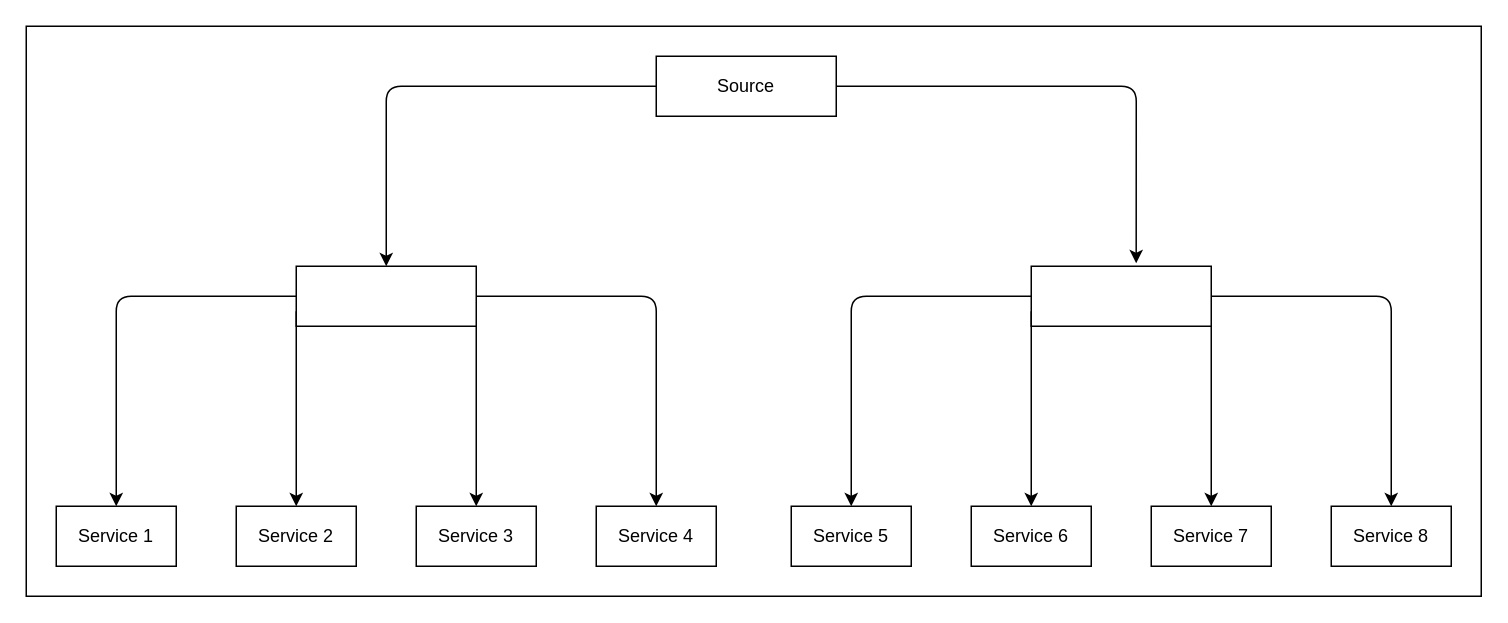
The diagram is 1508 pixels wide and 623 high, and some of its shapes have lost their labels. The shapes that lost their labels are listed below. From the top down, each one's centre as x and y in pixels, then its label:
[385,295]: Load Balance 1
[1120,295]: Load Balance 2
